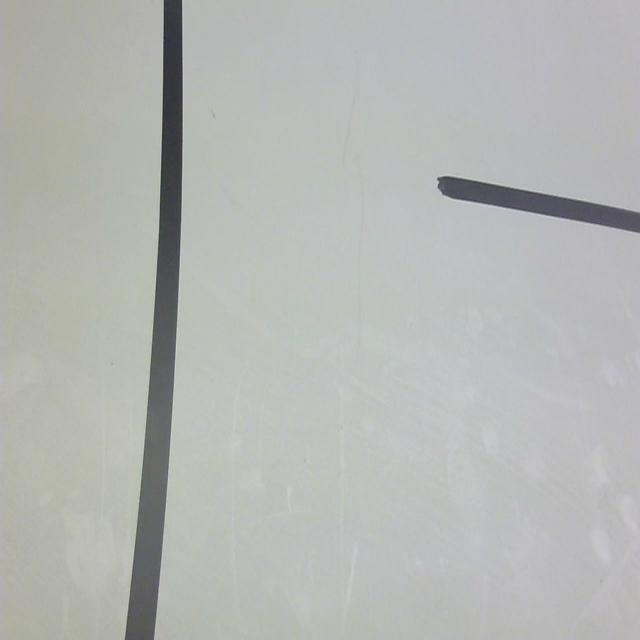tape: (114, 0, 190, 640), (433, 156, 640, 250)
